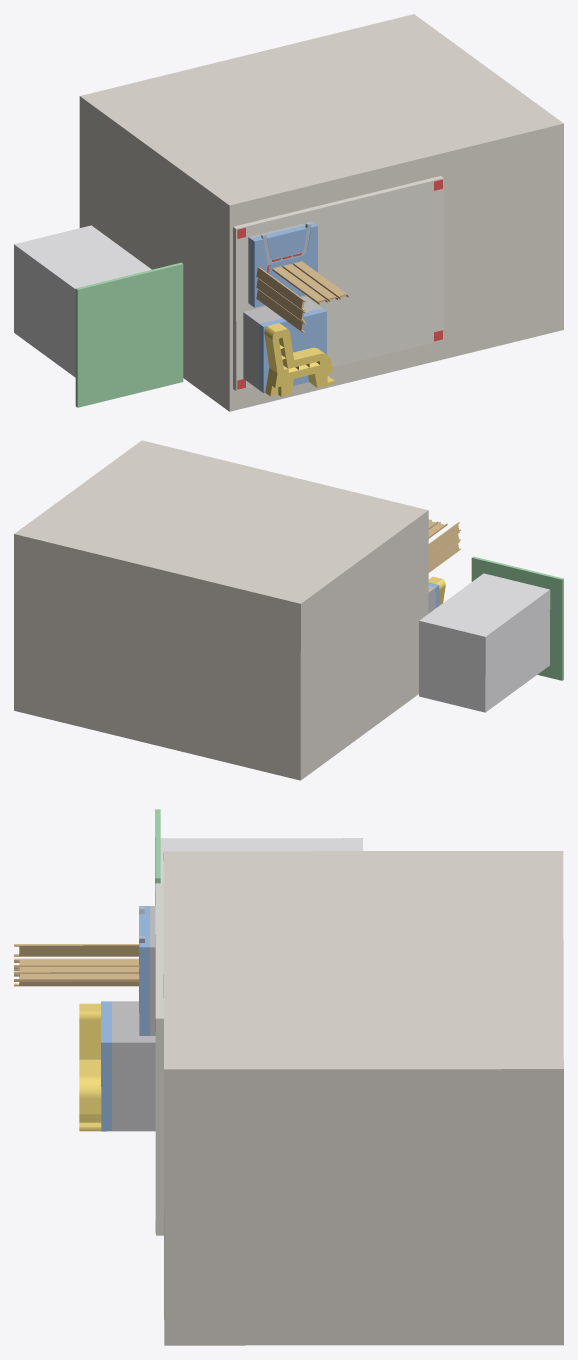
File: cell.glb
The picture shows the model from 3 angles, top to bottom: view 1: azimuth 30°, elevation 25°; view 2: azimuth 150°, elevation 25°; view 3: azimuth 270°, elevation 25°; orthographic projection. The views are drawn at different scales.
Parts seen in each view (by area): view 1: Table, Ground base plate, AMR plate, AMR top module, Guide, Base A, Base B, Base B riser, plank4, plank5, plank6, plank3 (+2 smaller); view 2: Table, AMR top module, AMR plate; view 3: Table, Base B riser, Ground base plate, AMR top module, Guide, plank4, Base B, Base A, plank2, plank1, plank3, Base A riser (+1 smaller).
Boxes of the visible parts, bbox=[...] form: Table: bbox=[79, 14, 563, 411]; Ground base plate: bbox=[233, 176, 443, 390]; AMR plate: bbox=[75, 262, 183, 407]; AMR top module: bbox=[14, 225, 151, 377]; Guide: bbox=[264, 323, 334, 396]; Base A: bbox=[250, 223, 317, 307]; Base B: bbox=[259, 308, 326, 393]; Base B riser: bbox=[243, 296, 322, 389]; plank4: bbox=[256, 267, 306, 310]; plank5: bbox=[256, 278, 306, 321]; plank6: bbox=[256, 289, 306, 332]; plank3: bbox=[272, 266, 327, 304]; Table: bbox=[14, 440, 428, 780]; AMR top module: bbox=[419, 573, 550, 712]; AMR plate: bbox=[471, 556, 563, 680]; Table: bbox=[163, 851, 563, 1345]; Base B riser: bbox=[112, 1001, 155, 1131]; Ground base plate: bbox=[155, 883, 163, 1235]; AMR top module: bbox=[160, 838, 362, 883]; Guide: bbox=[79, 1003, 101, 1131]; plank4: bbox=[14, 944, 138, 956]; Base B: bbox=[101, 1001, 111, 1131]; Base A: bbox=[139, 906, 149, 1035]; plank2: bbox=[14, 973, 139, 981]; plank1: bbox=[14, 966, 138, 973]; plank3: bbox=[14, 959, 138, 966]; Base A riser: bbox=[150, 906, 155, 1035].
Bounding box in the file's own units: 1390 × 561 × 1011.
